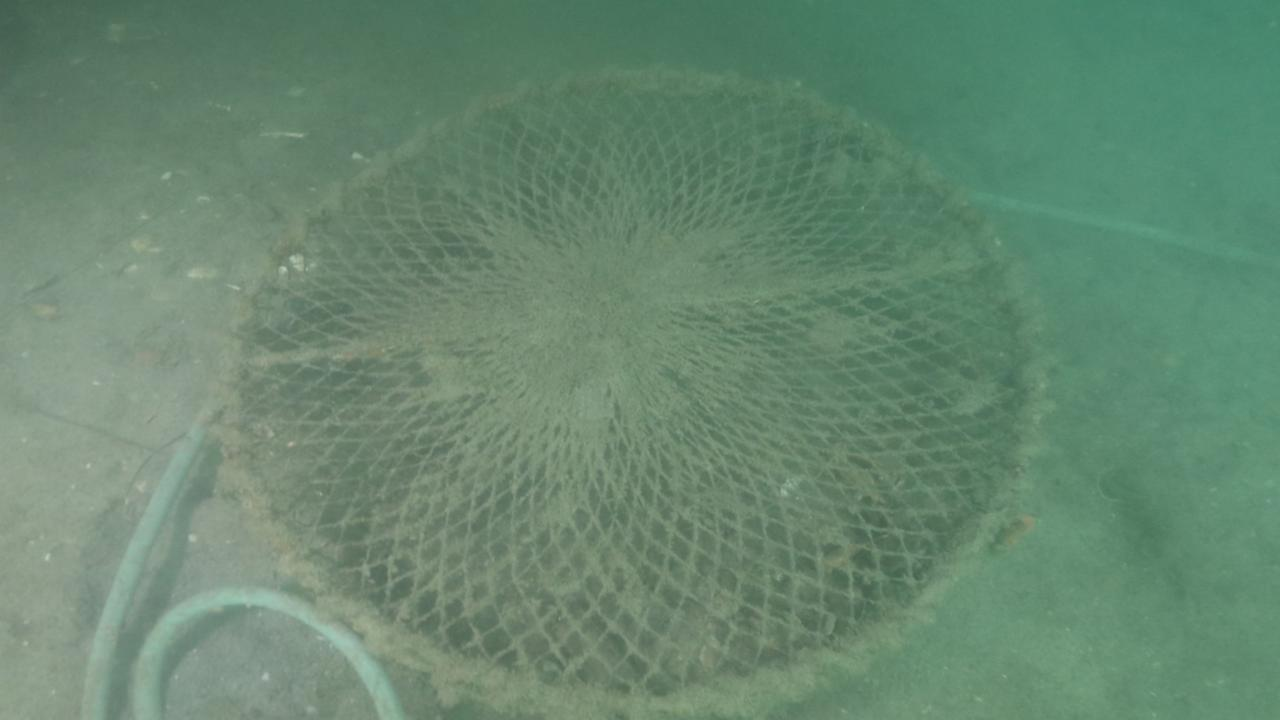circular fish trap: (218, 67, 1049, 712)
